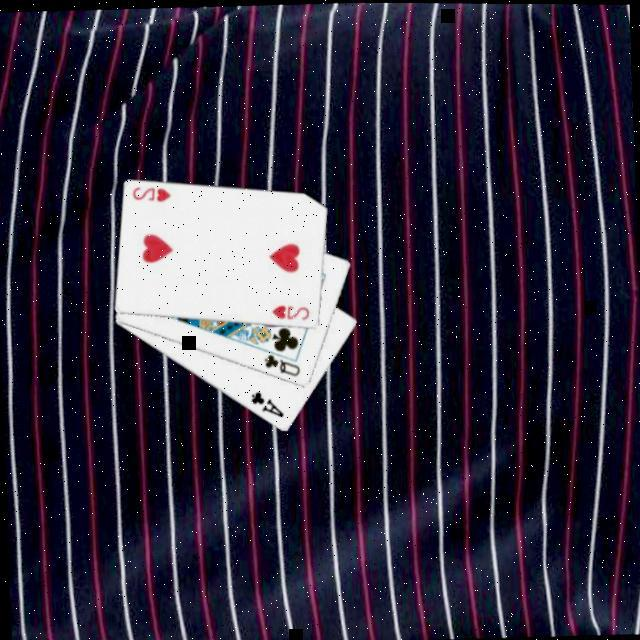2H: (270, 301, 315, 325), (131, 183, 176, 207)
AC: (249, 388, 289, 421)
QC: (262, 351, 305, 381)
